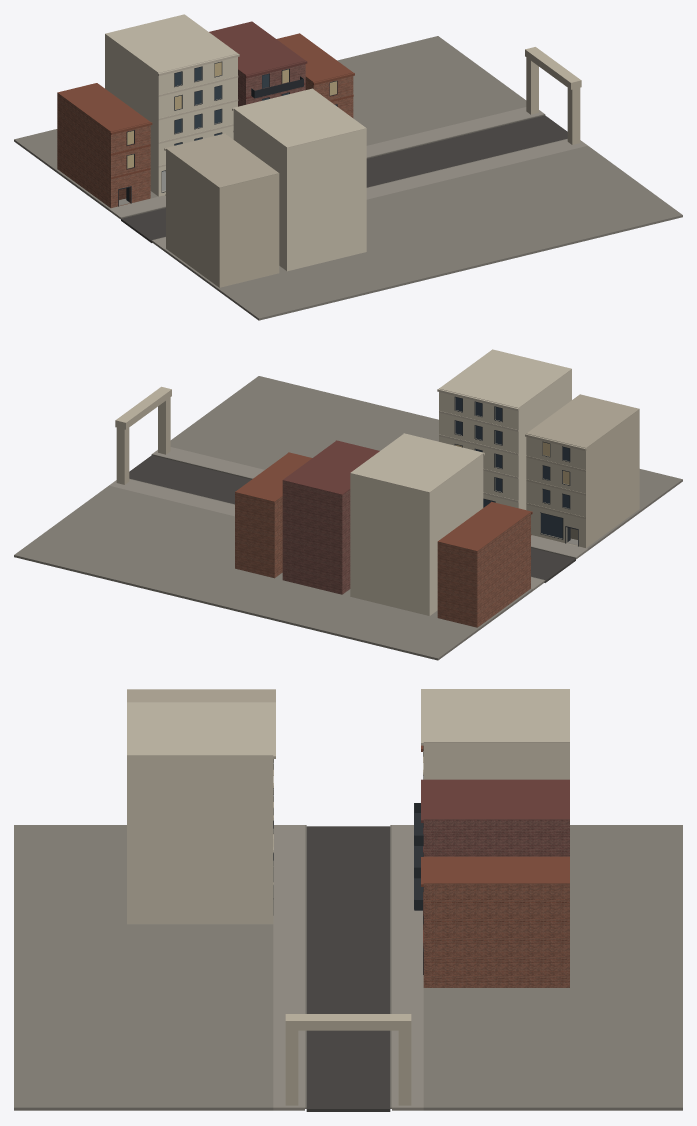
The model's file is nyc-cell.glb.
3 views of the same model, one above another, from view 1: azimuth 30°, elevation 25°; view 2: azimuth 150°, elevation 25°; view 3: azimuth 270°, elevation 25° (orthographic). The views are drawn at different scales.
Visible parts, largest first — view 1: ground_yard_s, ground_yard_n, bld_6_ivoryA, bld_5_ivoryB, bld_2_ivoryA, bld_1_brickA, ground_road, bld_2_ivoryATrim, bld_6_ivoryATrim, bld_5_ivoryBTrim, bld_3_brickBTrim, ground_walk_s (+10 smaller); view 2: ground_yard_n, ground_yard_s, bld_2_ivoryA, bld_5_ivoryB, bld_1_brickA, bld_6_ivoryA, bld_3_brickB, bld_6_ivoryATrim, bld_2_ivoryATrim, ground_road, bld_5_ivoryBTrim, bld_4_brickA (+9 smaller); view 3: ground_yard_s, ground_yard_n, bld_6_ivoryA, ground_road, bld_4_brickA, bld_6_ivoryATrim, bld_2_ivoryATrim, ground_walk_s, ground_walk_n, bld_3_brickBTrim, bld_2_ivoryA, bld_3_brickB (+4 smaller).
Part boxes in pixels (bbox=[...]): ground_yard_s: bbox=[164, 145, 682, 320]; ground_yard_n: bbox=[14, 36, 526, 210]; bld_6_ivoryA: bbox=[233, 109, 366, 271]; bld_5_ivoryB: bbox=[166, 149, 279, 287]; bld_2_ivoryA: bbox=[105, 34, 237, 196]; bld_1_brickA: bbox=[57, 93, 150, 208]; ground_road: bbox=[121, 115, 567, 242]; bld_2_ivoryATrim: bbox=[105, 14, 239, 193]; bld_6_ivoryATrim: bbox=[232, 88, 366, 147]; bld_5_ivoryBTrim: bbox=[164, 133, 278, 218]; bld_3_brickBTrim: bbox=[209, 21, 307, 98]; ground_walk_s: bbox=[152, 139, 587, 250]; ground_yard_n: bbox=[14, 485, 532, 660]; ground_yard_s: bbox=[170, 376, 682, 550]; bld_2_ivoryA: bbox=[350, 454, 483, 615]; bld_5_ivoryB: bbox=[526, 409, 639, 547]; bld_1_brickA: bbox=[437, 512, 530, 627]; bld_6_ivoryA: bbox=[439, 369, 571, 509]; bld_3_brickB: bbox=[282, 480, 350, 594]; bld_6_ivoryATrim: bbox=[437, 349, 571, 502]; bld_2_ivoryATrim: bbox=[350, 433, 484, 492]; ground_road: bbox=[129, 455, 575, 582]; bld_5_ivoryBTrim: bbox=[525, 394, 639, 539]; bld_4_brickA: bbox=[235, 492, 282, 578]; ground_yard_s: bbox=[14, 825, 273, 1110]; ground_yard_n: bbox=[423, 825, 682, 1110]; bld_6_ivoryA: bbox=[127, 755, 273, 924]; ground_road: bbox=[306, 826, 390, 1111]; bld_4_brickA: bbox=[423, 883, 569, 987]; bld_6_ivoryATrim: bbox=[127, 702, 275, 915]; bld_2_ivoryATrim: bbox=[421, 689, 569, 775]; ground_walk_s: bbox=[273, 825, 304, 1110]; ground_walk_n: bbox=[392, 825, 423, 1110]; bld_3_brickBTrim: bbox=[421, 779, 569, 942]; bld_2_ivoryA: bbox=[423, 742, 569, 779]; bld_3_brickB: bbox=[423, 819, 569, 856].
Bounding box in the file's own units: 64 × 18.3 × 64.
Materials: 18 (2 with a texture image).
